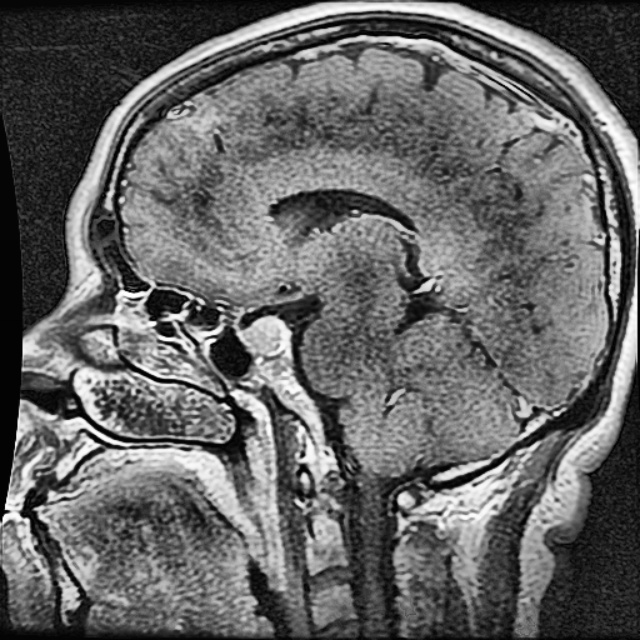Pituitary: (235, 317, 290, 358)
